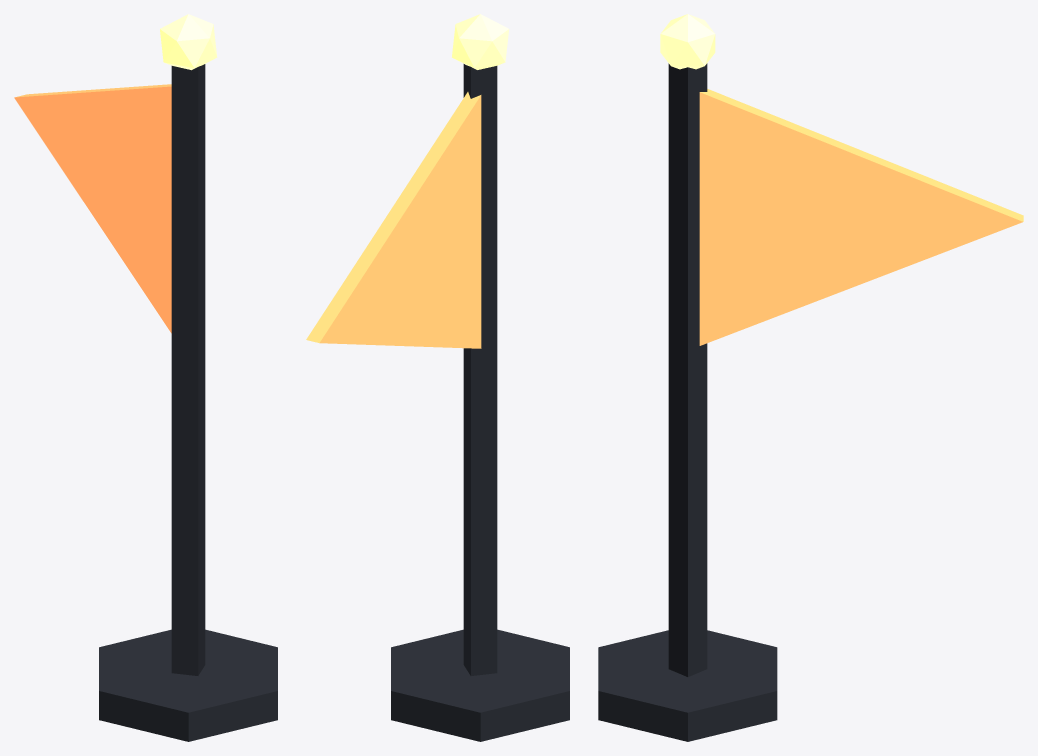
The picture shows the model from 3 angles, left to right: view 1: azimuth 30°, elevation 25°; view 2: azimuth 150°, elevation 25°; view 3: azimuth 270°, elevation 25°; orthographic projection.
Visible parts, largest first — view 1: vertical_flag.lod1; view 2: vertical_flag.lod1; view 3: vertical_flag.lod1.
Part boxes in pixels (x1=…): vertical_flag.lod1: x1=14, y1=14, x2=277, y2=741; vertical_flag.lod1: x1=306, y1=14, x2=569, y2=741; vertical_flag.lod1: x1=598, y1=14, x2=1023, y2=741.
Bounding box in the file's own units: 0.32 × 1.17 × 0.6586.
